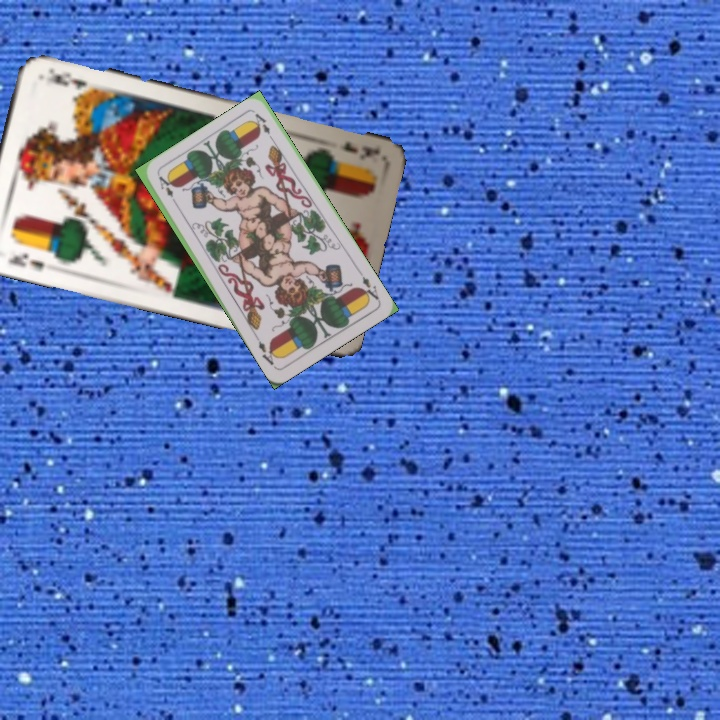EA: (355, 267, 382, 304), (154, 172, 180, 209)
EK: (335, 138, 382, 162), (3, 249, 47, 274)
